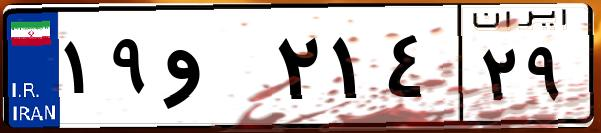1: (330, 28, 385, 110), (57, 26, 110, 100)
2: (270, 28, 330, 110), (475, 38, 525, 113)
4: (385, 28, 445, 110)
9: (525, 38, 570, 115), (110, 28, 158, 98)
و: (158, 20, 270, 120)
